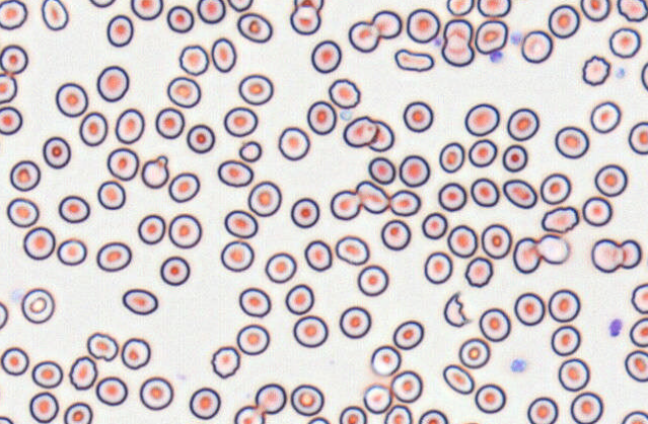PLT: (608, 318, 624, 338), (510, 356, 529, 372), (489, 48, 505, 64), (511, 29, 526, 44)
RBC: (441, 18, 474, 66), (20, 287, 55, 323), (247, 180, 281, 217), (96, 65, 129, 102), (474, 19, 508, 54), (406, 8, 440, 43), (168, 213, 202, 248), (464, 102, 499, 136), (554, 125, 589, 159), (292, 314, 328, 347), (139, 376, 173, 410), (590, 238, 623, 273), (55, 82, 88, 117), (480, 223, 512, 259), (355, 180, 389, 213), (22, 226, 55, 260), (106, 147, 139, 181), (547, 4, 580, 38), (277, 126, 310, 160), (594, 163, 627, 197), (290, 383, 324, 416), (506, 107, 539, 141), (342, 115, 377, 147), (166, 76, 201, 108), (478, 307, 510, 342), (238, 73, 273, 105), (236, 12, 272, 43), (558, 357, 590, 391), (220, 240, 254, 272), (513, 292, 545, 326), (548, 288, 580, 322), (521, 29, 553, 63), (96, 241, 131, 272), (223, 106, 258, 137), (114, 108, 144, 144), (541, 205, 579, 233), (570, 391, 603, 423), (390, 370, 422, 403), (339, 305, 371, 338), (398, 154, 430, 187), (188, 386, 220, 419), (236, 323, 269, 355), (310, 39, 341, 73), (306, 100, 336, 135), (78, 111, 108, 146), (502, 178, 537, 208), (512, 237, 541, 273), (348, 20, 380, 52), (539, 172, 571, 204), (536, 233, 569, 264), (608, 27, 641, 58), (447, 224, 477, 258), (335, 235, 369, 265), (68, 355, 97, 390), (217, 159, 253, 187), (329, 189, 361, 220), (458, 337, 490, 368), (9, 159, 40, 191), (474, 383, 506, 414), (168, 172, 200, 203), (357, 264, 388, 296), (178, 44, 209, 76), (264, 252, 296, 283), (590, 101, 621, 133), (402, 100, 433, 132), (6, 197, 39, 227), (210, 345, 240, 378), (238, 287, 271, 317), (122, 288, 158, 315), (255, 383, 286, 414), (159, 255, 190, 286), (370, 345, 401, 376), (380, 219, 411, 250), (442, 364, 474, 394), (29, 391, 59, 423), (95, 376, 127, 406), (328, 78, 360, 108), (394, 48, 434, 72), (392, 319, 424, 349), (120, 337, 150, 369), (224, 209, 257, 238), (423, 251, 452, 284), (42, 136, 71, 169), (290, 5, 321, 35), (550, 325, 580, 356), (371, 9, 402, 39), (284, 283, 314, 314), (155, 107, 184, 139), (86, 332, 118, 361), (58, 194, 90, 223), (141, 155, 169, 188), (210, 37, 236, 72), (582, 196, 612, 226), (464, 256, 493, 287), (363, 383, 392, 414), (290, 197, 319, 228), (31, 360, 63, 388), (304, 239, 332, 271), (106, 14, 133, 47), (0, 346, 29, 376), (186, 123, 215, 153), (470, 177, 499, 207), (526, 396, 558, 423), (438, 141, 465, 173), (368, 119, 394, 152), (468, 138, 497, 167), (437, 182, 466, 211), (0, 44, 28, 74), (137, 214, 165, 244), (97, 180, 125, 210), (40, 0, 68, 30), (582, 55, 610, 85), (56, 238, 87, 265), (389, 189, 420, 216), (367, 156, 395, 185), (0, 0, 27, 30), (166, 5, 194, 33), (624, 349, 647, 382), (421, 211, 447, 239), (502, 144, 527, 172), (196, 0, 225, 24), (619, 239, 642, 269), (616, 0, 647, 22), (0, 105, 22, 135), (130, 0, 163, 20), (63, 401, 92, 423), (580, 0, 610, 21), (628, 121, 647, 154), (233, 404, 265, 423), (383, 404, 412, 424), (477, 0, 511, 17), (629, 316, 647, 347), (238, 140, 262, 162), (631, 282, 647, 314), (0, 73, 17, 103), (338, 405, 366, 423), (446, 0, 474, 16), (418, 409, 448, 423), (620, 410, 647, 423), (293, 0, 323, 11), (227, 0, 253, 12), (640, 61, 648, 91), (0, 301, 8, 329), (88, 0, 116, 8), (307, 416, 330, 423), (0, 415, 14, 423)
Schistocyte: (443, 289, 470, 328)
